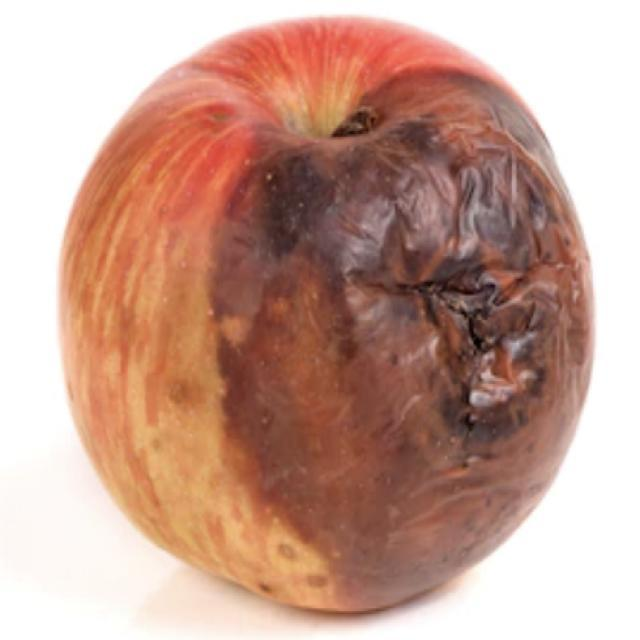Rotten: (93, 22, 600, 620)
